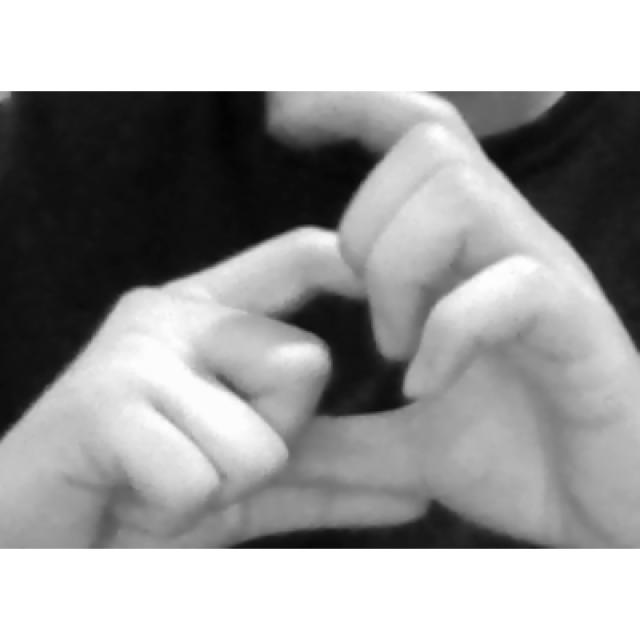G-: (3, 91, 640, 548)
